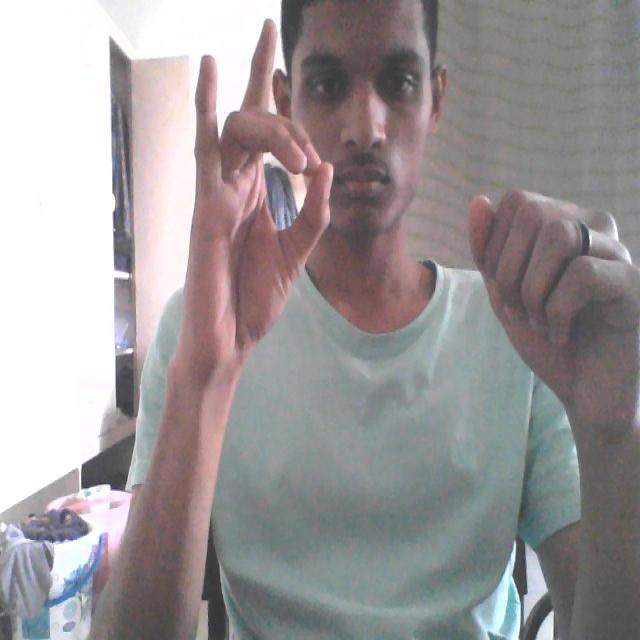ILoveYou: (194, 58, 336, 347)
Yes: (461, 177, 640, 427)
